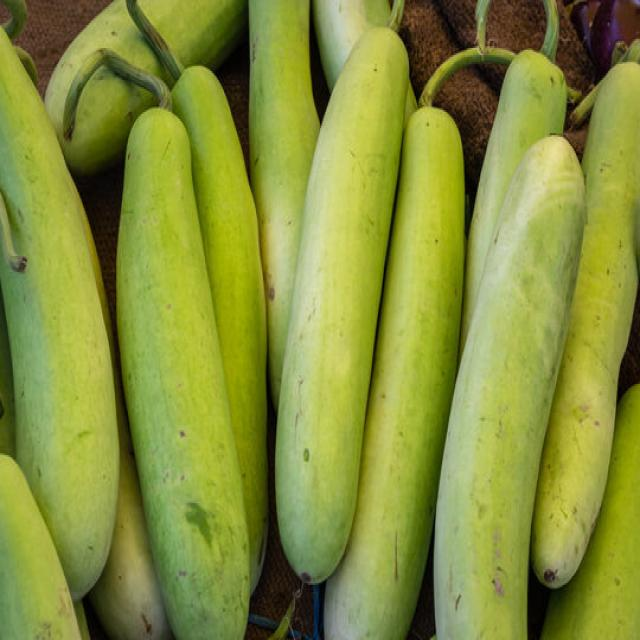Bottle Gourd: (431, 132, 587, 638), (272, 21, 409, 585), (114, 103, 251, 638), (0, 0, 120, 603), (44, 0, 248, 174), (310, 0, 403, 94)
Radish: (247, 0, 320, 411)
Spinach: (0, 0, 639, 638)
